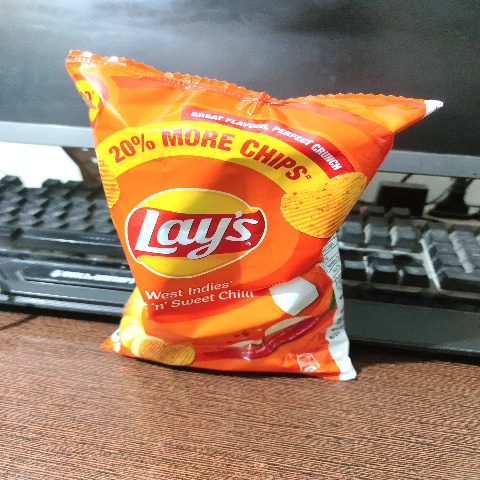lays_orange_pack: (44, 33, 455, 400)
